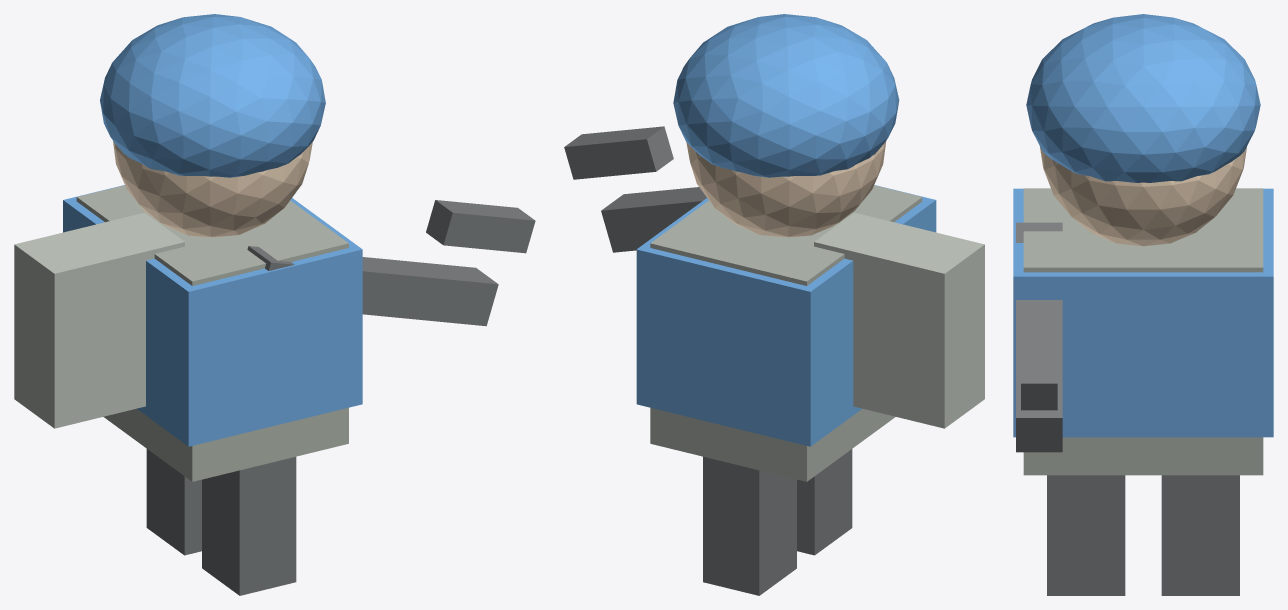
Rendered from infantry_blue.glb.
3 renders of one model, left to right at view 1: azimuth 30°, elevation 25°; view 2: azimuth 150°, elevation 25°; view 3: azimuth 270°, elevation 25°, orthographic. The views are drawn at different scales.
Visible parts, largest first — view 1: part03, part05, part06, part02, part00, part04, part07, part08, part01; view 2: part03, part05, part06, part02, part01, part04, part08, part00, part07; view 3: part03, part05, part02, part04, part00, part01, part07, part08.
Boxes of the visible parts, x1,y1,x2,y2 form: part03: (63,185,362,446); part05: (100,14,325,177); part06: (14,212,184,428); part02: (76,185,348,481); part00: (202,456,296,595); part04: (113,141,312,237); part07: (247,246,498,326); part08: (426,200,535,253); part01: (146,449,201,555); part03: (636,185,936,446); part05: (673,14,899,177); part06: (814,212,984,428); part02: (650,185,922,481); part01: (703,456,796,595); part04: (686,141,886,237); part08: (564,126,673,179); part00: (797,449,852,555); part07: (601,187,706,252); part03: (1013,188,1273,437); part05: (1026,14,1260,182); part02: (1023,188,1263,475); part04: (1040,147,1246,246); part00: (1047,475,1125,595); part01: (1161,475,1239,595); part07: (1016,222,1062,452); part08: (1021,312,1057,410).
Bounding box in the file's own units: 1.02 × 1.16 × 0.5.
